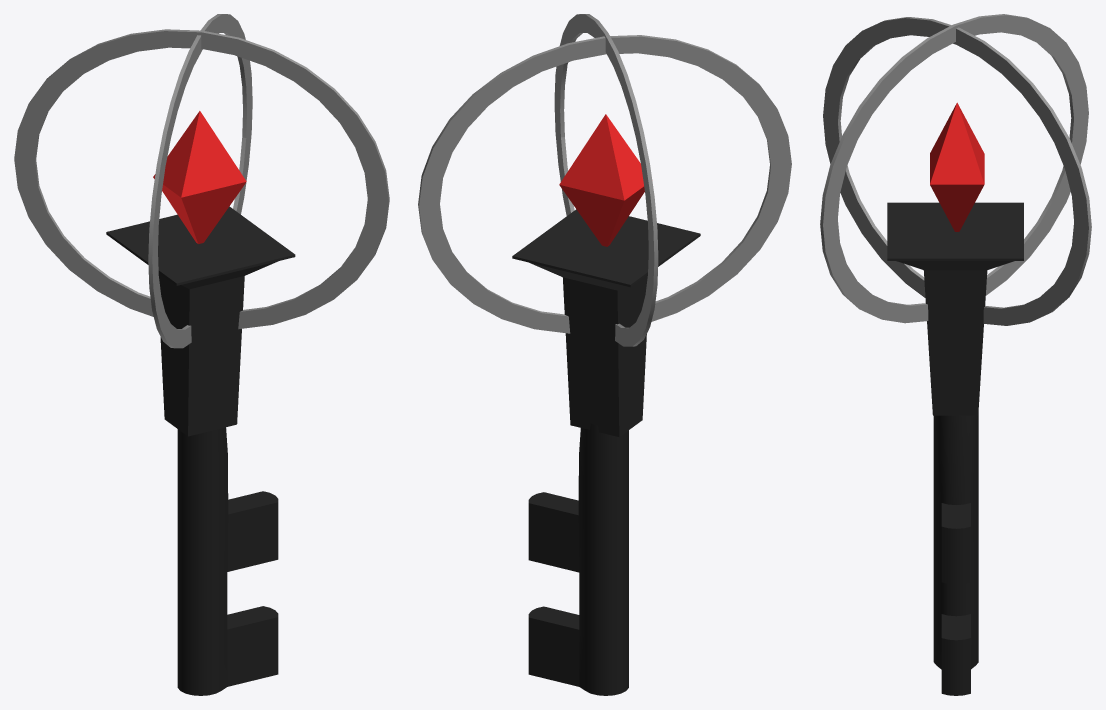
Rendered from key.FBX.
3 renders of one model, left to right at view 1: azimuth 30°, elevation 25°; view 2: azimuth 150°, elevation 25°; view 3: azimuth 270°, elevation 25°, orthographic. The views are drawn at different scales.
Visible parts, largest first — view 1: Cylinder001; view 2: Cylinder001; view 3: Cylinder001.
Part boxes in pixels (<box>): Cylinder001: <box>14,14,389,695</box>; Cylinder001: <box>418,14,791,695</box>; Cylinder001: <box>820,14,1091,695</box>.
Bounding box in the file's own units: 32.95 × 85.94 × 33.3.
